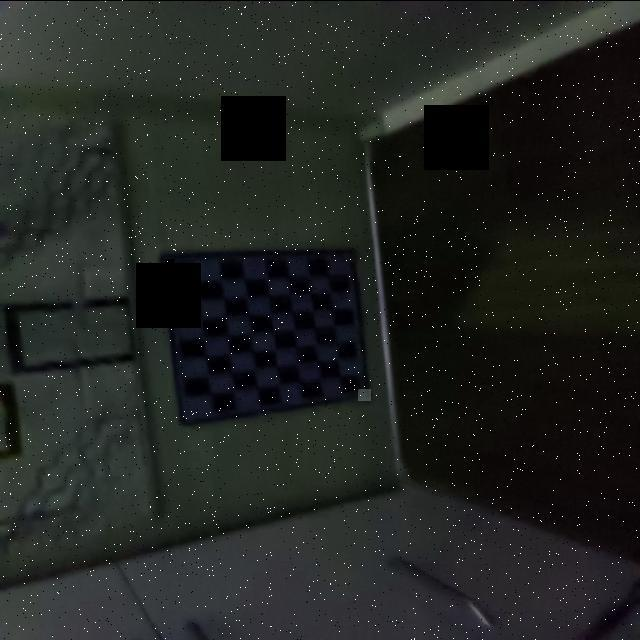chess-table-corners: (358, 388, 371, 400), (344, 251, 356, 261), (185, 411, 195, 422), (165, 258, 175, 267)
